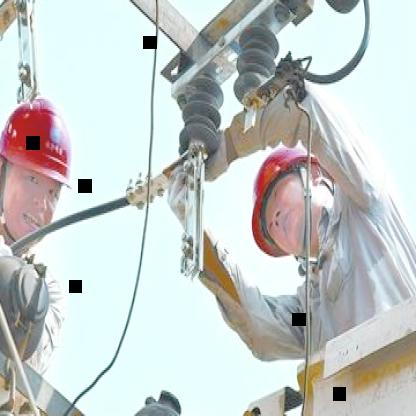helmet: (0, 85, 84, 247), (248, 136, 322, 262)
